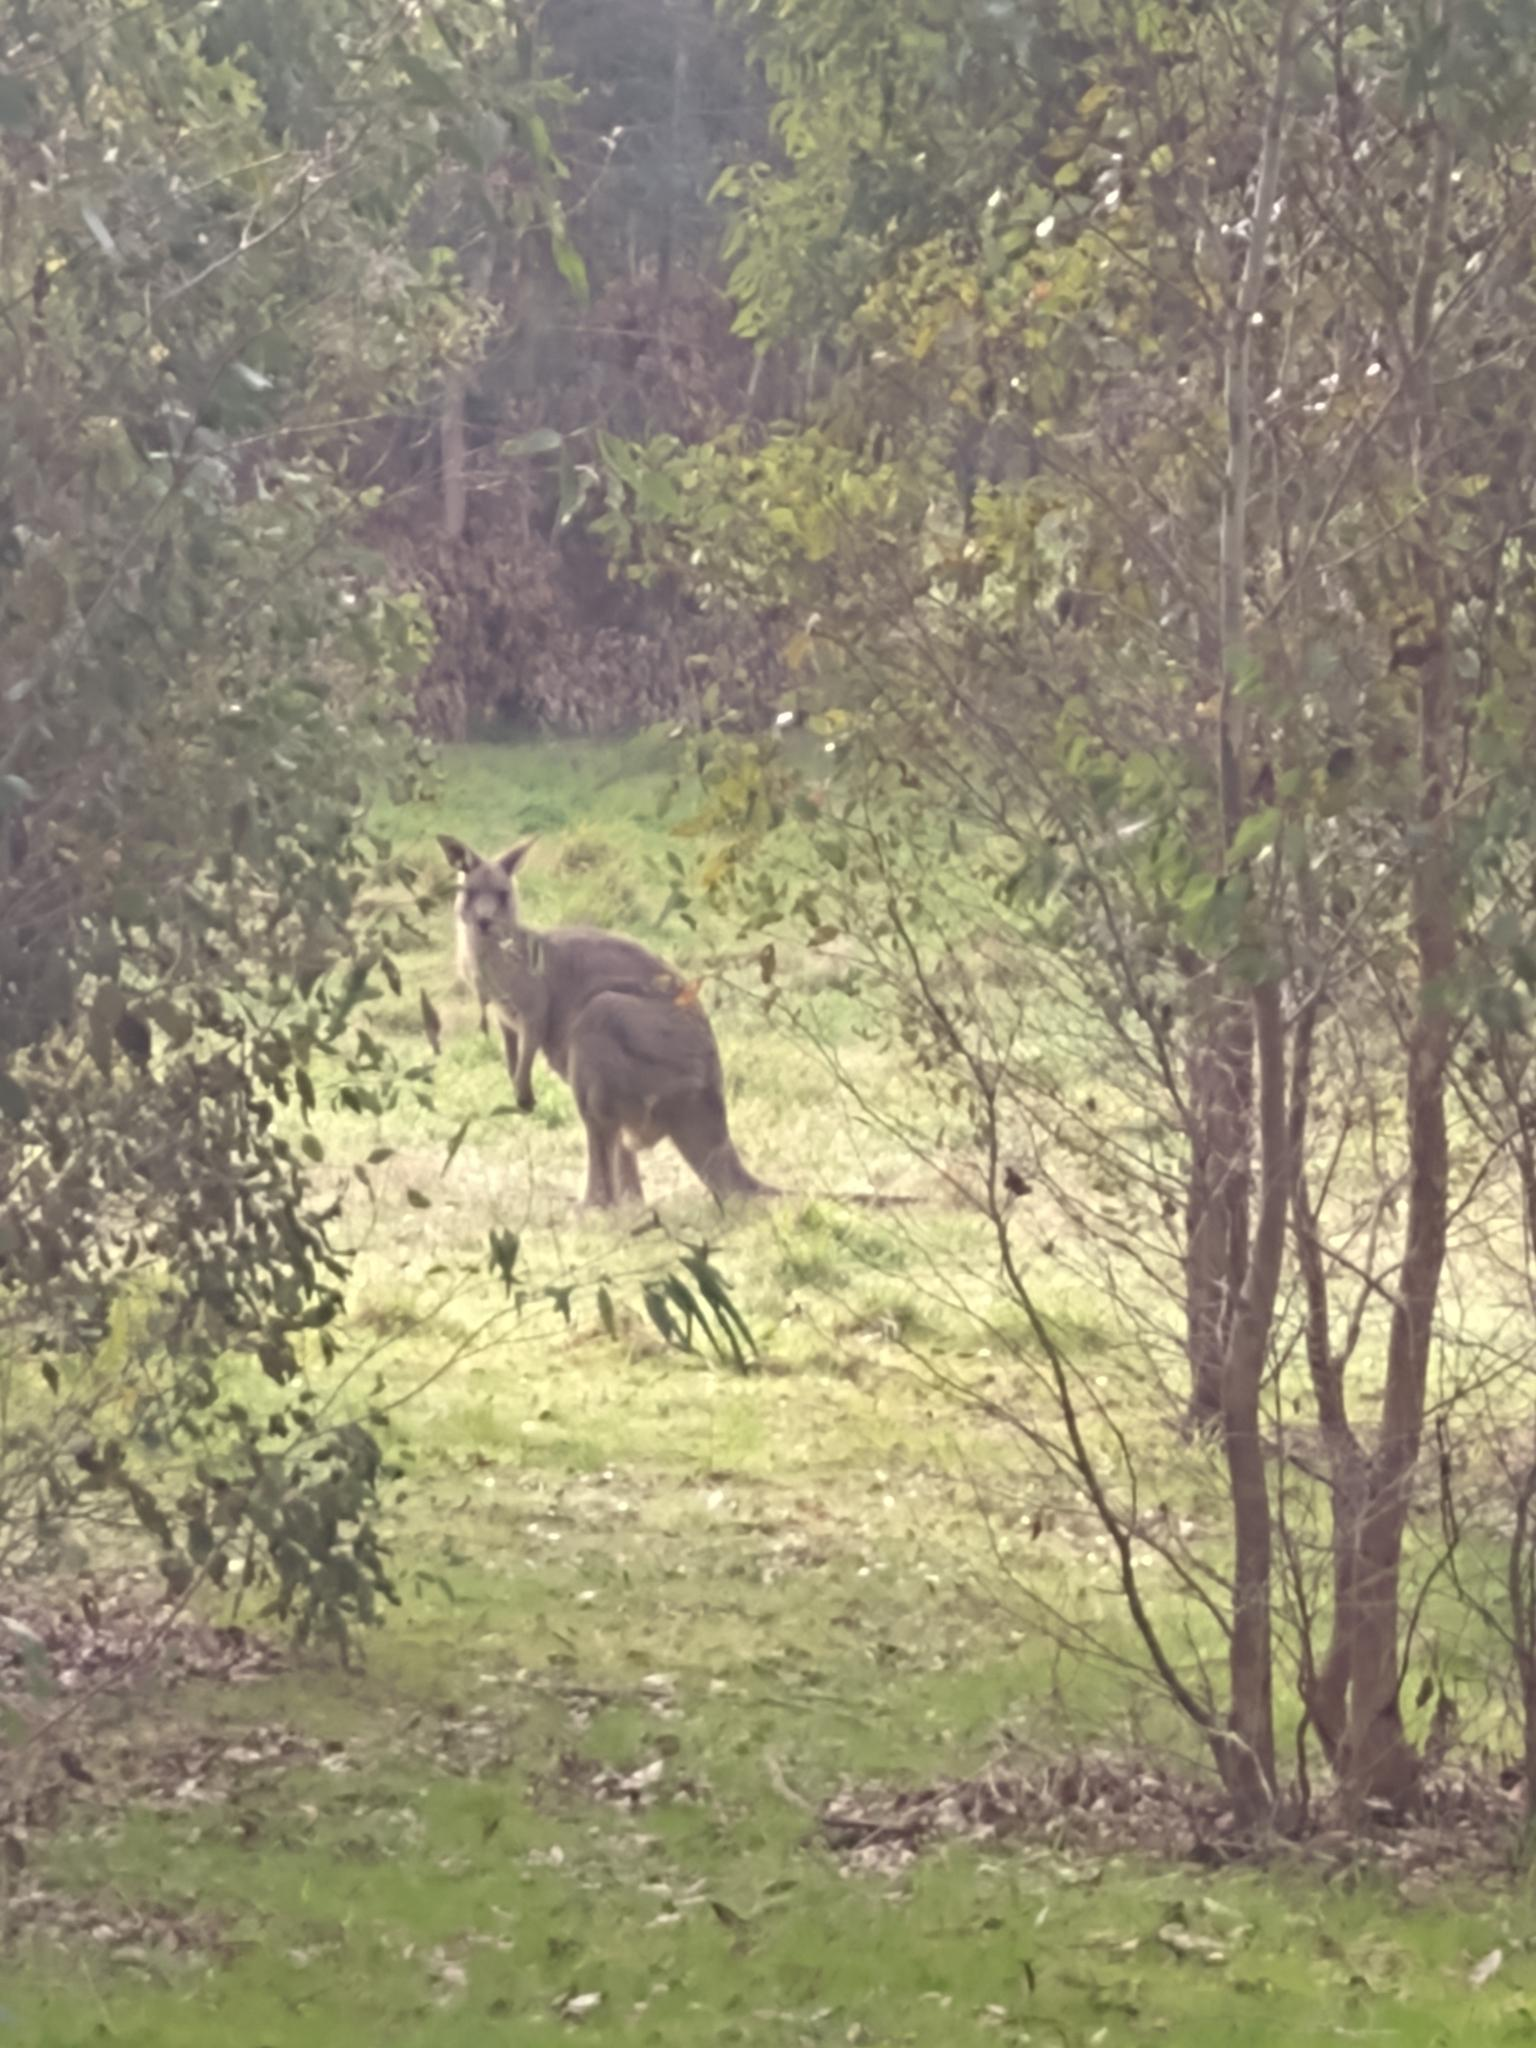Eastern grey kangaroo: (439, 847, 1023, 1237)
